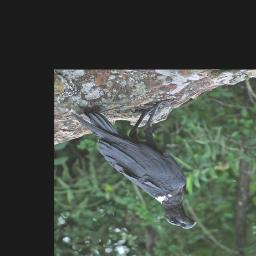Crow: (73, 99, 200, 231)
